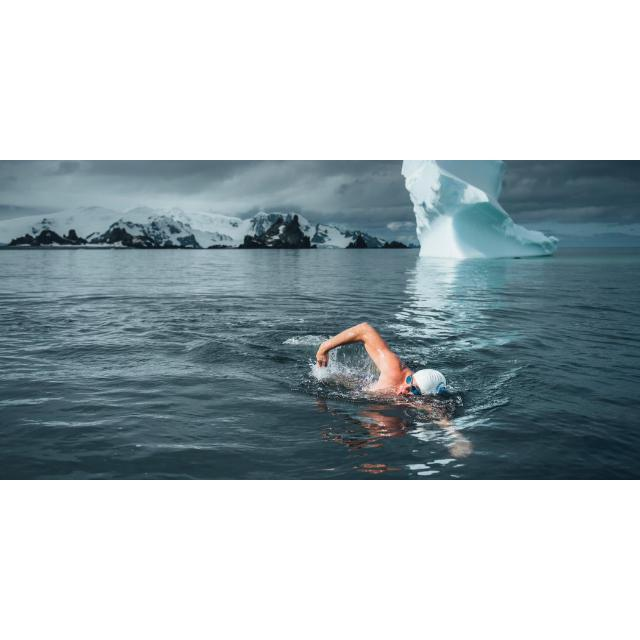human: (309, 322, 449, 407)
